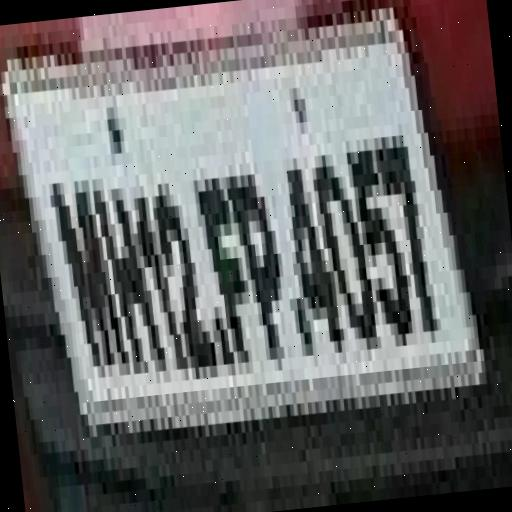number plate: (0, 24, 494, 467)
